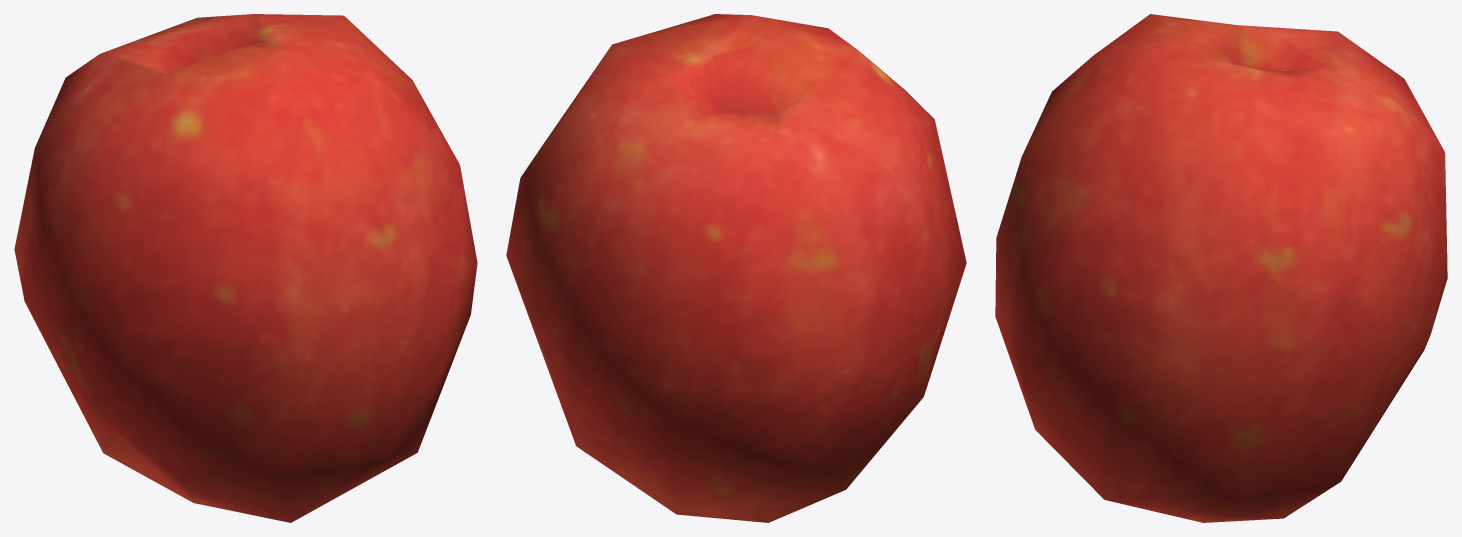
Rendered from SM_Food_SM_Apple_01.fbx.
The picture shows the model from 3 angles, left to right: view 1: azimuth 30°, elevation 25°; view 2: azimuth 150°, elevation 25°; view 3: azimuth 270°, elevation 25°; orthographic projection.
Parts seen in each view (by area): view 1: SM_Food_SM_Apple_01_LOD0; view 2: SM_Food_SM_Apple_01_LOD0; view 3: SM_Food_SM_Apple_01_LOD0.
Part boxes in pixels (x1,y1,x2,y2): SM_Food_SM_Apple_01_LOD0: [14, 14, 477, 522]; SM_Food_SM_Apple_01_LOD0: [506, 14, 966, 522]; SM_Food_SM_Apple_01_LOD0: [995, 14, 1447, 522].
Bounding box in the file's own units: 7.84 × 7.88 × 8.54.
1 material, 1 textured.
